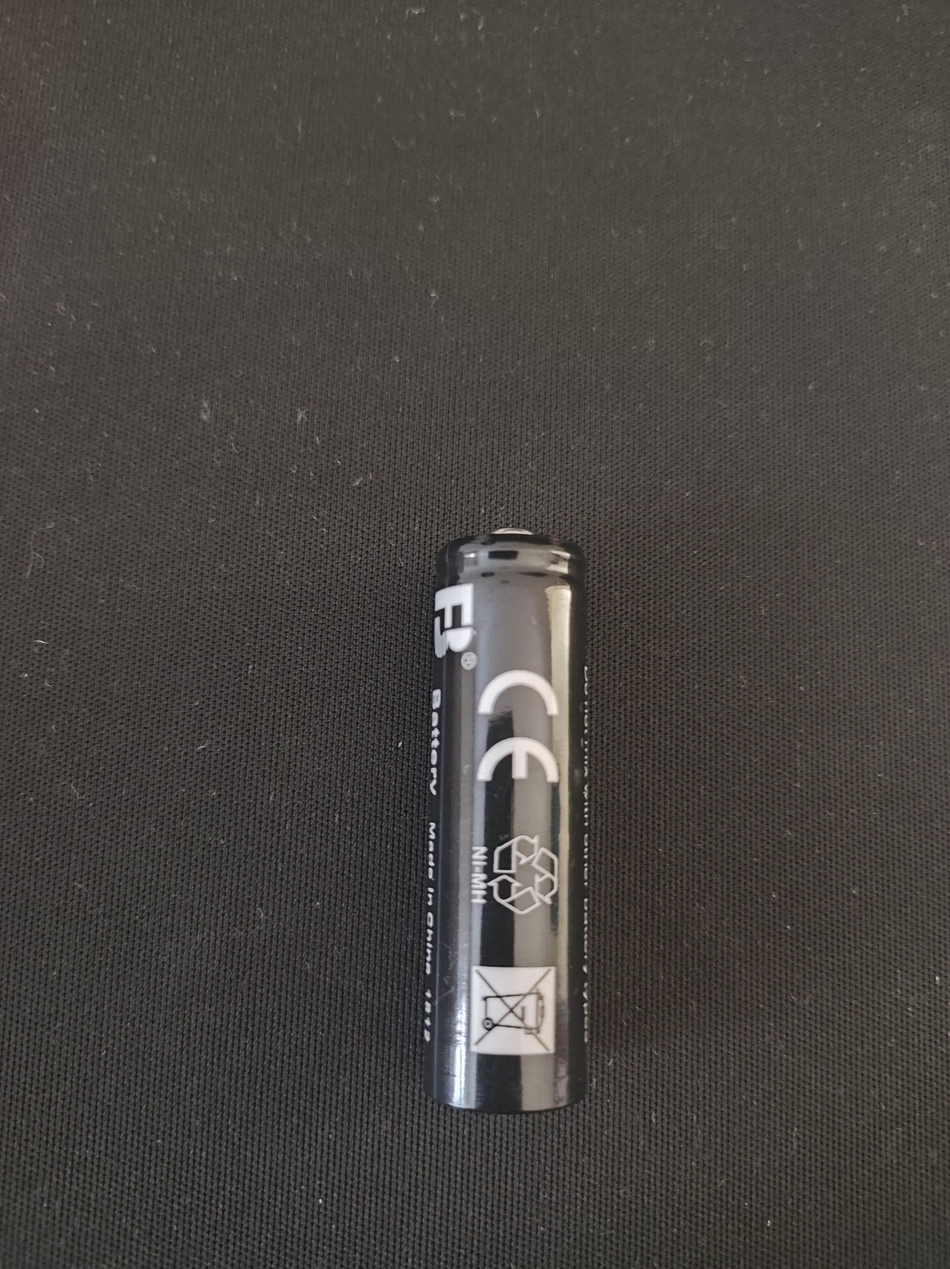AA: (420, 526, 589, 1114)
